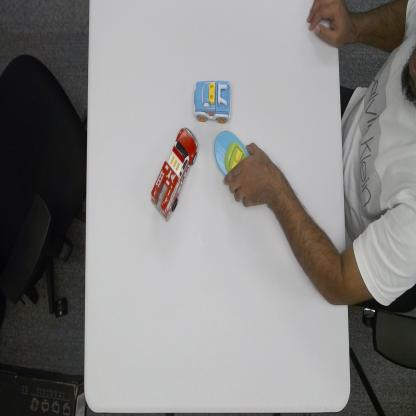Arm: (272, 168, 346, 306)
Boat: (213, 129, 251, 176)
Car: (191, 78, 233, 125)
Firetruck: (150, 126, 199, 222)
Hand: (223, 141, 270, 207), (306, 0, 338, 47)
